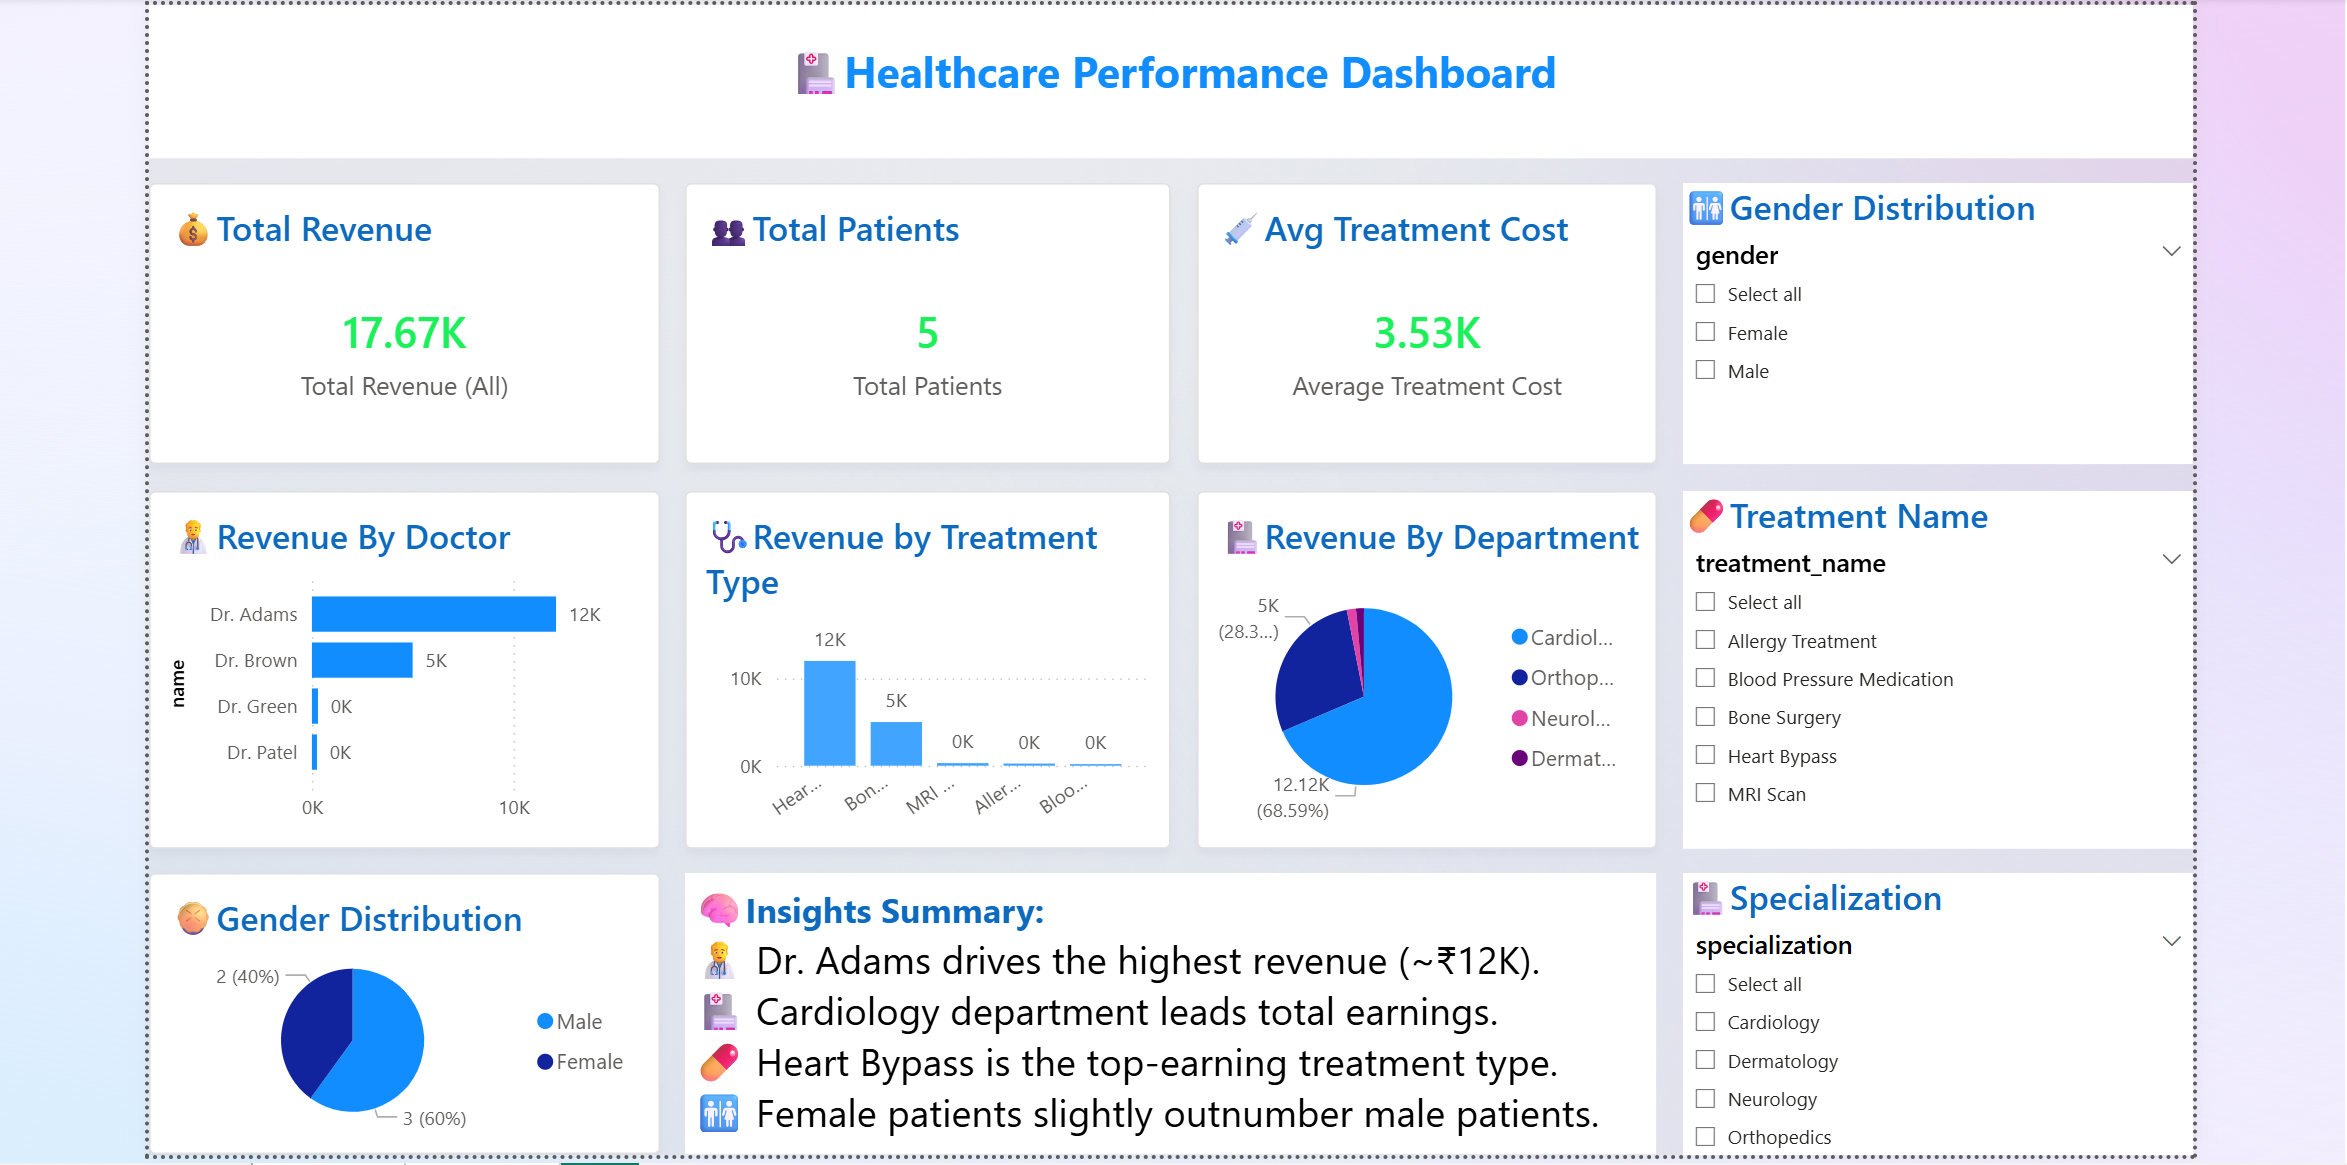

This screenshot's page, from the dashboard's own definition file:
{"tool":"powerbi","page":{"name":"Page 2","canvas":[1280,720],"ordinal":1},"visuals":[{"type":"clusteredBarChart","title":"👨⚕️Revenue By Doctor","fields":{"Category":["healthcare_db doctors.name"],"Y":["healthcare_db appointments.Doctor Revenue"]},"box":[0,304,320,224],"z":0},{"type":"card","title":"💰Total Revenue","fields":{"Values":["healthcare_db appointments.Total Revenue (All)"]},"box":[0,112,320,176],"z":1},{"type":"card","title":"👥Total Patients","fields":{"Values":["healthcare_db appointments.Total Patients"]},"box":[336,112,304,176],"z":2},{"type":"card","title":"💉Avg Treatment Cost","fields":{"Values":["healthcare_db appointments.Average Treatment Cost"]},"box":[656,112,288,176],"z":3},{"type":"pieChart","title":"🏥Revenue By Department","fields":{"Y":["healthcare_db appointments.Doctor Revenue"],"Category":["healthcare_db doctors.specialization"]},"box":[656,304,288,224],"z":4},{"type":"clusteredColumnChart","title":"🩺Revenue by Treatment Type","fields":{"Category":["healthcare_db treatments.treatment_name"],"Y":["healthcare_db appointments.Total Treatment Revenue"]},"box":[336,304,304,224],"z":5},{"type":"pieChart","title":"🥧Gender Distribution","fields":{"Category":["healthcare_db patients.gender"],"Y":["healthcare_db patients.patient_id"]},"box":[0,544,320,176],"z":6},{"type":"slicer","title":"🚻Gender Distribution","fields":{"Values":["healthcare_db patients.gender"]},"box":[960,112,320,176],"z":7},{"type":"slicer","title":"💊Treatment Name","fields":{"Values":["healthcare_db treatments.treatment_name"]},"box":[960,304,320,224],"z":8},{"type":"slicer","title":"🏥Specialization","fields":{"Values":["healthcare_db doctors.specialization"]},"box":[960,544,320,176],"z":9},{"type":"textbox","box":[0,0,1280,96],"z":10},{"type":"textbox","box":[336,544,608,176],"z":11}]}

Visuals, with their boxes on the page's 1280x720 design canvas (x1, y1, x2, y2). These are canvas units, not pixel positions in the 2347x1165 screenshot, which may show the page scaled, cropped or inside an application window:
"👨⚕️Revenue By Doctor" clusteredBarChart: <box>0,304,320,528</box>
"💰Total Revenue" card: <box>0,112,320,288</box>
"👥Total Patients" card: <box>336,112,640,288</box>
"💉Avg Treatment Cost" card: <box>656,112,944,288</box>
"🏥Revenue By Department" pieChart: <box>656,304,944,528</box>
"🩺Revenue by Treatment Type" clusteredColumnChart: <box>336,304,640,528</box>
"🥧Gender Distribution" pieChart: <box>0,544,320,720</box>
"🚻Gender Distribution" slicer: <box>960,112,1280,288</box>
"💊Treatment Name" slicer: <box>960,304,1280,528</box>
"🏥Specialization" slicer: <box>960,544,1280,720</box>
textbox: <box>0,0,1280,96</box>
textbox: <box>336,544,944,720</box>
